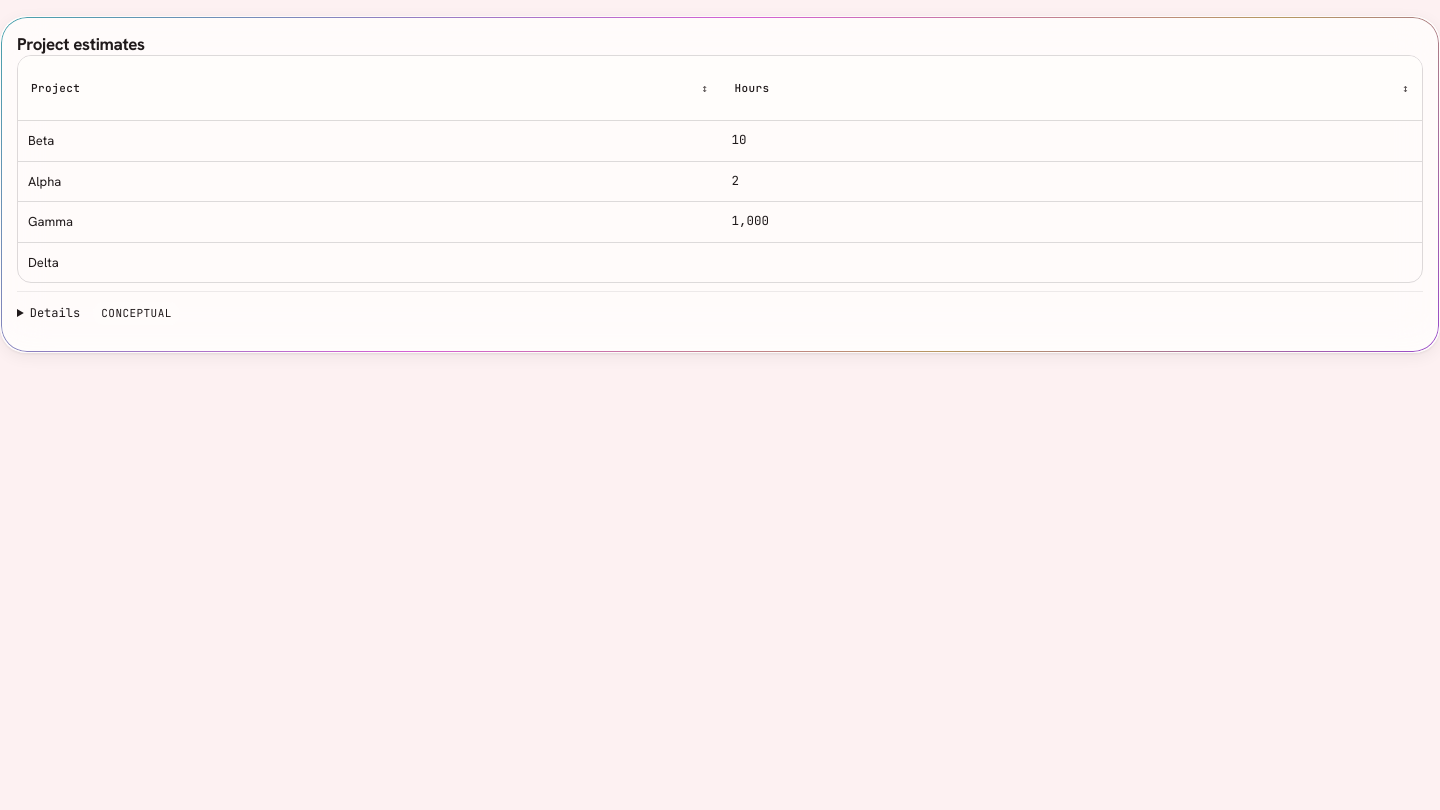
it: sortable and filterable table › sorts numerically, then descending, then restores the original order
This screenshot has width=1440, height=810.
Click the button "Hours ↕" at (752, 88), box [731,66,1412,110]
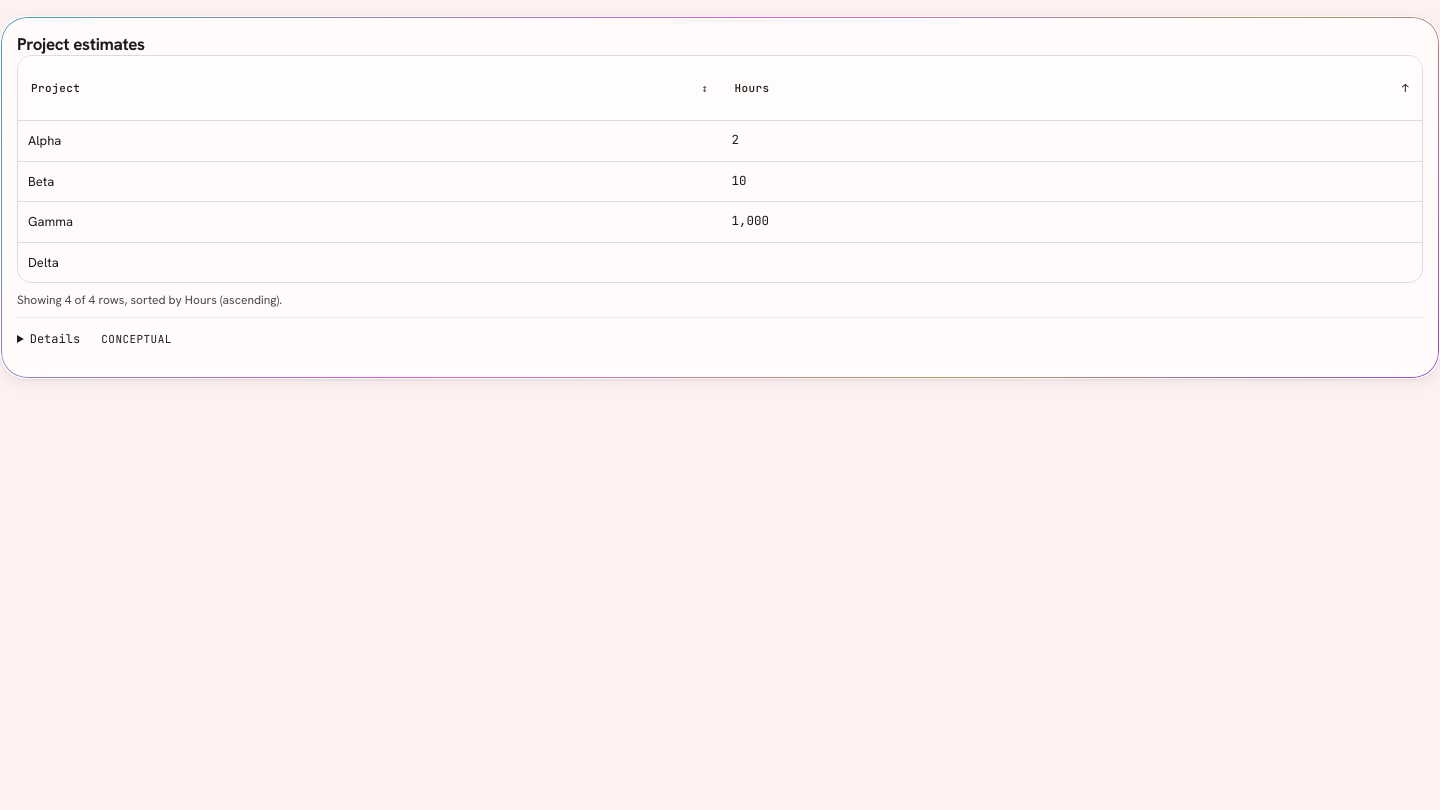
Expected: the message reads "Showing 4 of 4 rows, sorted by Hours (ascending).", [17,292,282,308]
Click the button "Hours ↑" at (752, 88), box [731,66,1412,110]
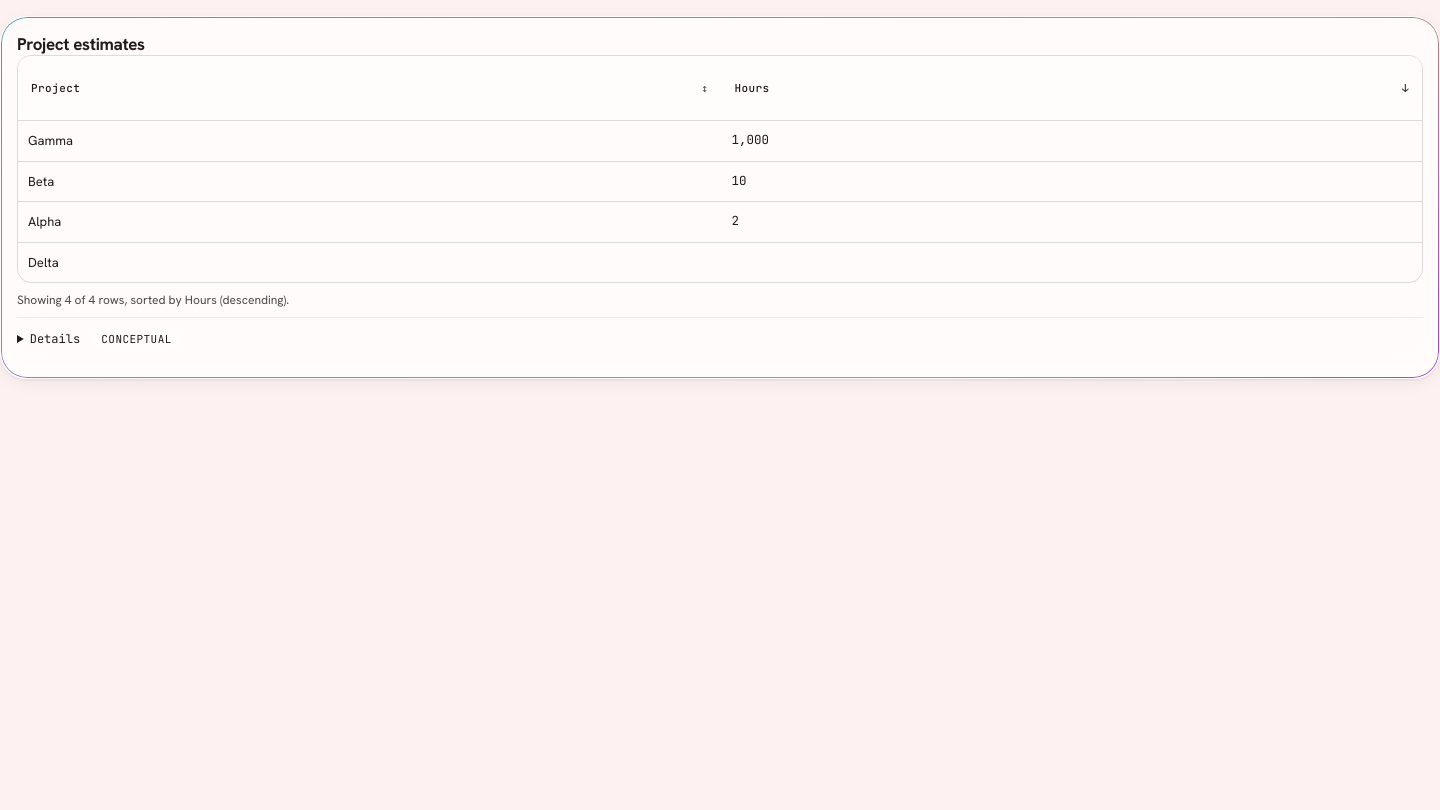
Click the button "Hours ↓" at (752, 88), box [731,66,1412,110]
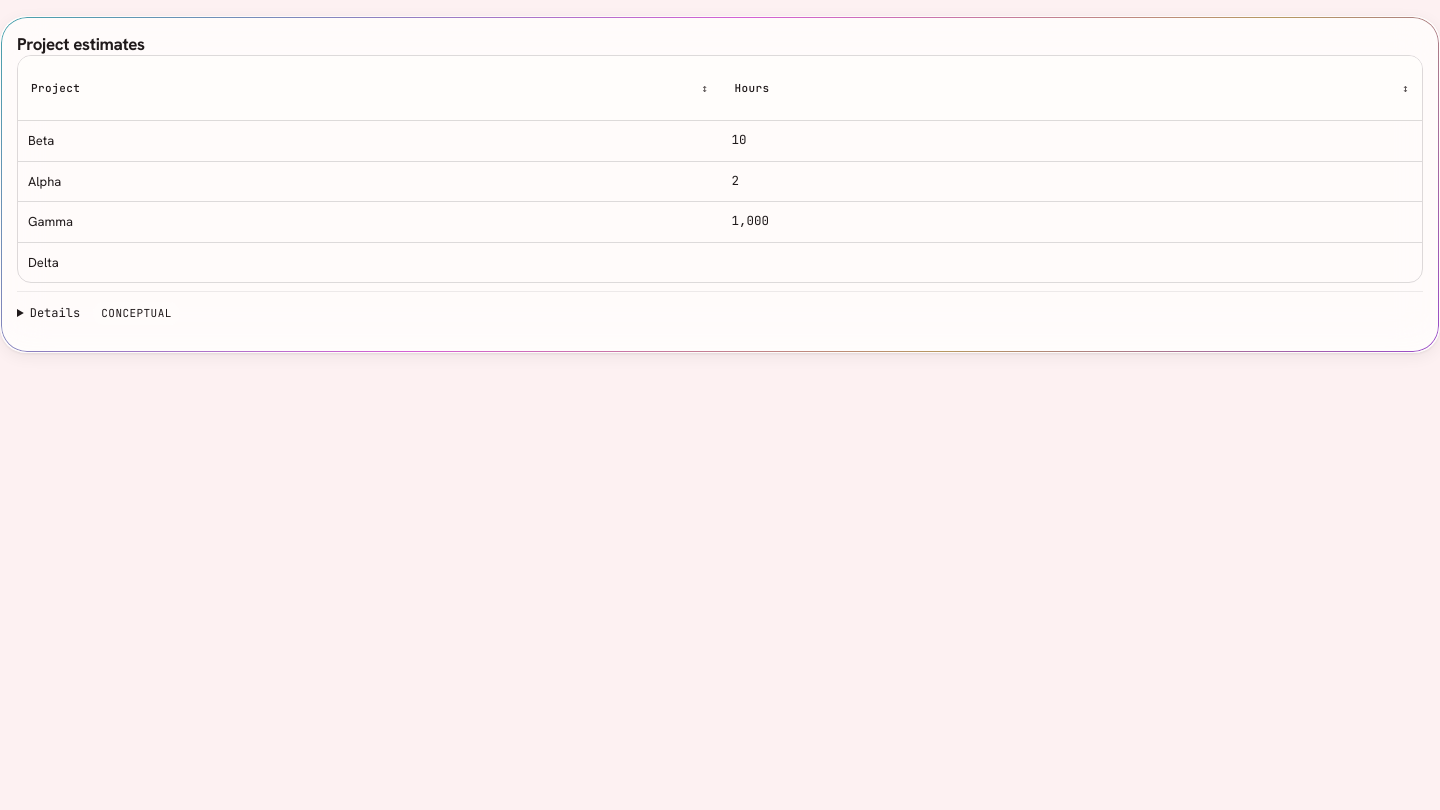
Expected: the message "Showing 4 of 4 rows, sorted by Hours (descending)." is gone
